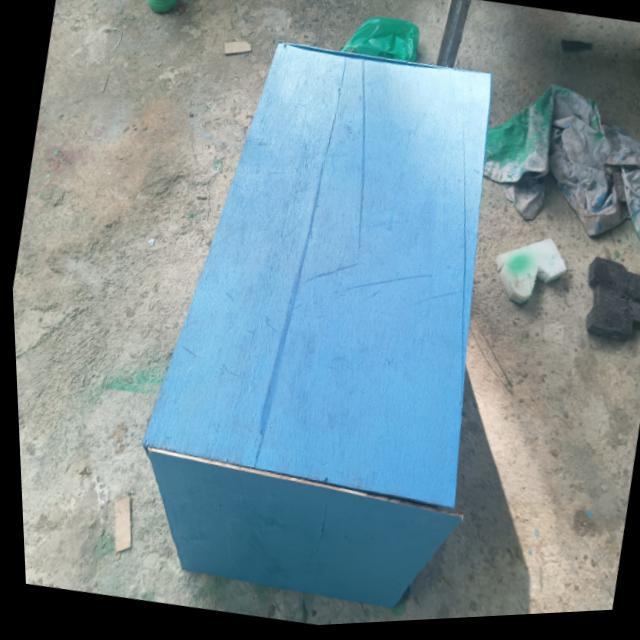blue_box: (105, 15, 553, 634)
